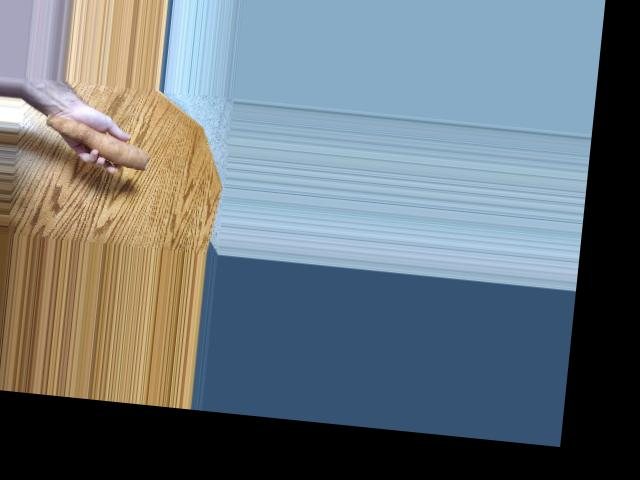sweet_potato: (44, 111, 152, 173)
